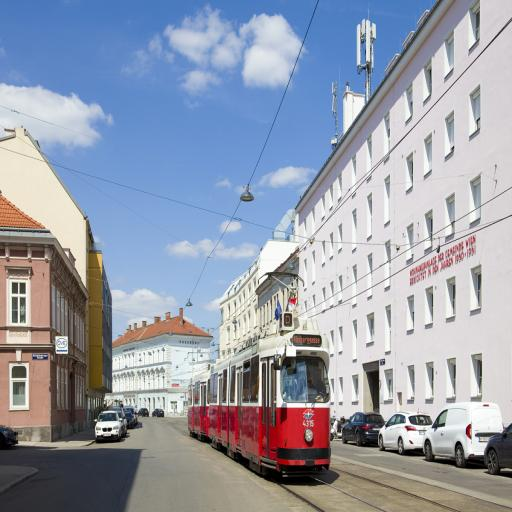E2-Tram: (188, 311, 332, 473)
